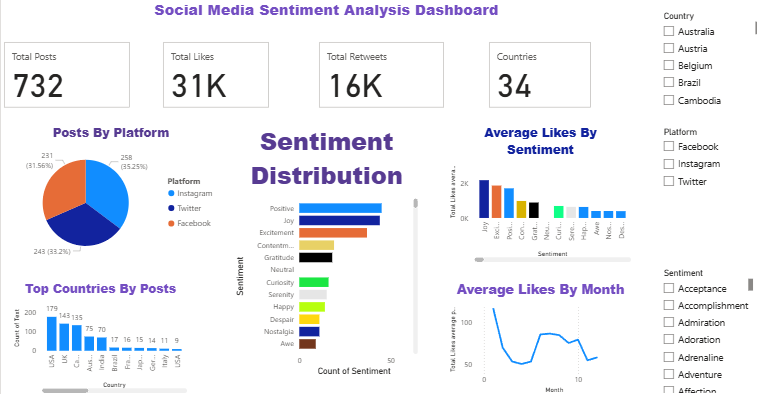

This screenshot's page, from the dashboard's own definition file:
{"tool":"powerbi","page":{"name":"Page 1","canvas":[1280,720],"ordinal":0},"visuals":[{"type":"cardVisual","title":"Total Posts","fields":{"Data":["Sheet1.Total Posts"]},"box":[0,120.9,221.7,120.9],"z":0},{"type":"cardVisual","fields":{"Data":["Sheet1.Total Likes"]},"box":[267.1,120.9,188.1,120.9],"z":1000},{"type":"cardVisual","fields":{"Data":["Sheet1.Total Retweets"]},"box":[529.1,120.9,220.1,120.9],"z":2000},{"type":"cardVisual","fields":{"Data":["Sheet1.Countries"]},"box":[814.7,120.9,181.4,120.9],"z":3000},{"type":"clusteredBarChart","title":"Sentiment Distribution","fields":{"Category":["Sheet1.Sentiment"],"Y":["CountNonNull(Sheet1.Sentiment)"]},"box":[388,263.7,317.5,428.3],"z":4000},{"type":"pieChart","title":"Posts By Platform","fields":{"Category":["Sheet1.Platform"],"Y":["Sheet1.Total Posts"]},"box":[0,263.7,369.6,236.9],"z":5000},{"type":"clusteredColumnChart","title":"Average Likes By Sentiment","fields":{"Category":["Sheet1.Sentiment"],"Y":["Sheet1.Total Likes average per Sentiment"]},"box":[749.2,263.7,314.1,236.9],"z":6000},{"type":"lineChart","title":"Average Likes By Month","fields":{"Category":["Sheet1.Month"],"Y":["Sheet1.Total Likes average per Sentiment"]},"box":[749.2,525.8,314.1,194.9],"z":7000},{"type":"clusteredColumnChart","title":"Top Countries By Posts","fields":{"Category":["Sheet1.Country"],"Y":["CountNonNull(Sheet1.Text)"]},"box":[16.8,525.8,300.7,194.9],"z":8000},{"type":"slicer","fields":{"Values":["Sheet1.Country"]},"box":[1100.3,68.9,179.7,173],"z":9000},{"type":"slicer","fields":{"Values":["Sheet1.Platform"]},"box":[1100.3,263.7,168,191.5],"z":10000},{"type":"slicer","fields":{"Values":["Sheet1.Sentiment"]},"box":[1100.3,500.6,168,220.1],"z":11000},{"type":"textbox","title":"Social Media Sentiment Analysis Dashboard","box":[97.4,55.4,898.7,65.5],"z":12000}]}

Visuals, with their boxes on the page's 1280x720 design canvas (x1, y1, x2, y2). These are canvas units, not pixel positions in the 757x394 screenshot, which may show the page scaled, cropped or inside an application window:
"Total Posts" cardVisual: bbox=(0, 121, 222, 242)
cardVisual - Sheet1.Total Likes: bbox=(267, 121, 455, 242)
cardVisual - Sheet1.Total Retweets: bbox=(529, 121, 749, 242)
cardVisual - Sheet1.Countries: bbox=(815, 121, 996, 242)
"Sentiment Distribution" clusteredBarChart: bbox=(388, 264, 706, 692)
"Posts By Platform" pieChart: bbox=(0, 264, 370, 501)
"Average Likes By Sentiment" clusteredColumnChart: bbox=(749, 264, 1063, 501)
"Average Likes By Month" lineChart: bbox=(749, 526, 1063, 721)
"Top Countries By Posts" clusteredColumnChart: bbox=(17, 526, 318, 721)
slicer - Sheet1.Country: bbox=(1100, 69, 1280, 242)
slicer - Sheet1.Platform: bbox=(1100, 264, 1268, 455)
slicer - Sheet1.Sentiment: bbox=(1100, 501, 1268, 721)
"Social Media Sentiment Analysis Dashboard" textbox: bbox=(97, 55, 996, 121)
